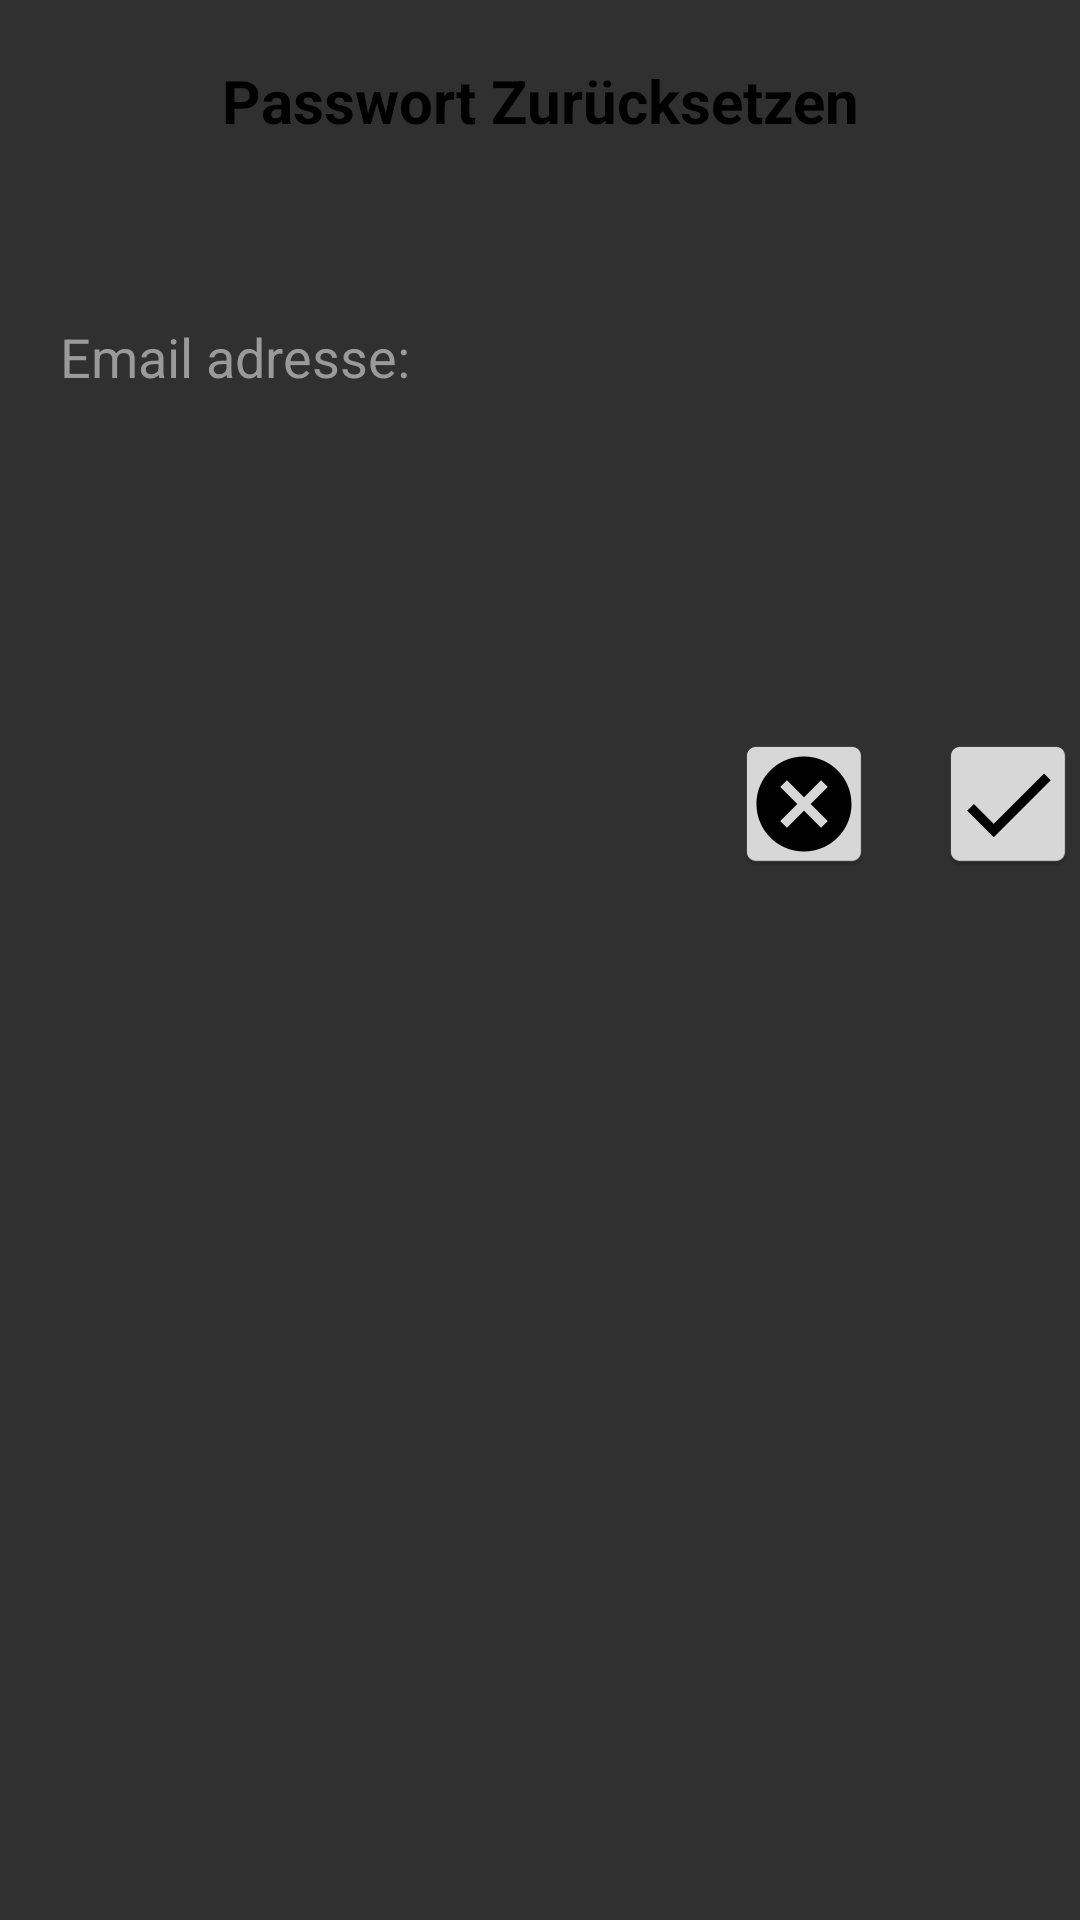

Locate icon controls on the screen. Image size 1080w x 1920h, boxes as BBox(x1, y1, x2, y2).
cancel: BBox(747, 747, 861, 861)
check: BBox(951, 747, 1065, 861)
